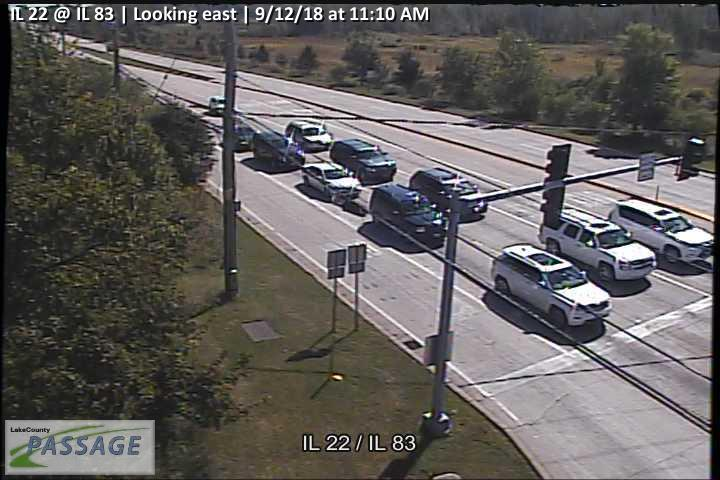SUV: (490, 243, 611, 330), (538, 207, 656, 286), (607, 199, 714, 265), (368, 185, 447, 248), (409, 166, 488, 223), (330, 137, 398, 185), (252, 131, 306, 170), (285, 117, 332, 154), (209, 96, 231, 116)
Sedan: (300, 161, 361, 200), (220, 122, 256, 153)
